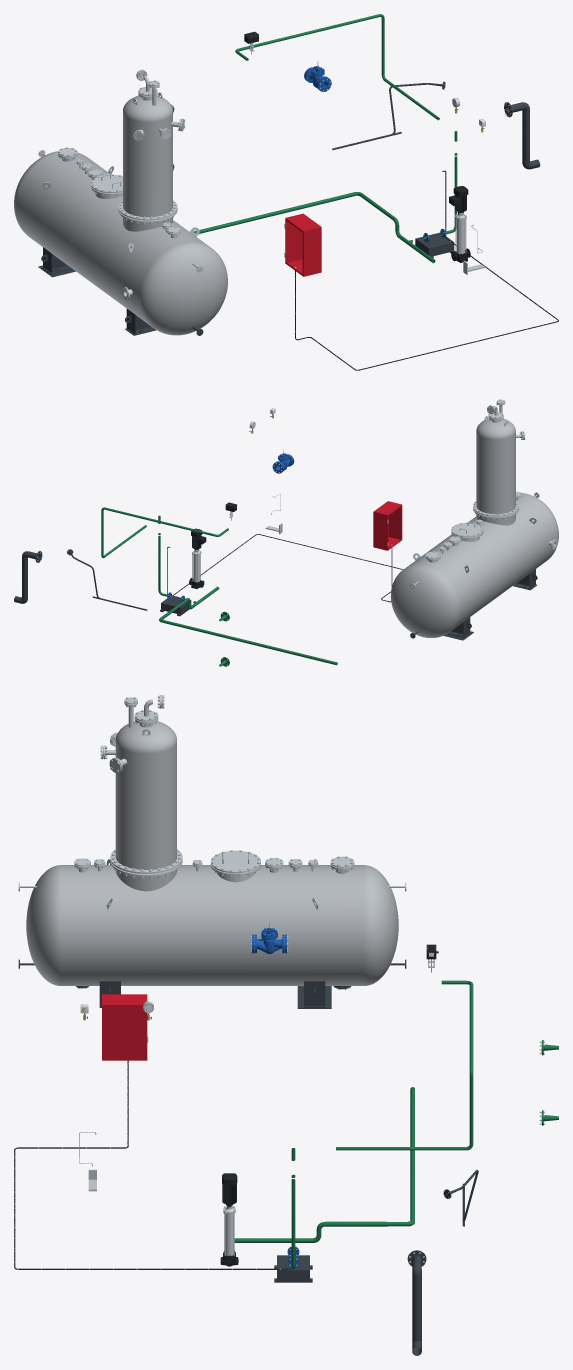
Rendered from s4000-1-2jzba_Rv.glb.
The picture shows the model from 3 angles, top to bottom: view 1: azimuth 30°, elevation 25°; view 2: azimuth 150°, elevation 25°; view 3: azimuth 270°, elevation 25°; orthographic projection. The views are drawn at different scales.
Visible parts, largest first — view 1: deaerator CAD solid 56, deaerator CAD solid 257, control_cabinet / control_cabinet_0.npz, suction_common / green, to_direct / green, wiring_pump_2 / black, bdv_water_drain / dark, pump_branch_2 / dark, deaerator CAD solid 408; view 2: deaerator CAD solid 56, deaerator CAD solid 257, control_cabinet / control_cabinet_0.npz, suction_common / green, to_direct / green, bdv_water_drain / dark, wiring_pump_2 / black, deaerator CAD solid 408, pump_branch_2 / dark; view 3: deaerator CAD solid 56, deaerator CAD solid 257, control_cabinet / control_cabinet_0.npz, suction_common / green, to_direct / green, wiring_pump_2 / black, bdv_water_drain / dark, deaerator CAD solid 408, pump_branch_2 / dark.
Boxes of the visible parts, <box> form: deaerator CAD solid 56: <box>14,151,227,335</box>; deaerator CAD solid 257: <box>123,95,172,217</box>; control_cabinet / control_cabinet_0.npz: <box>284,213,321,276</box>; suction_common / green: <box>193,192,435,263</box>; to_direct / green: <box>235,14,439,120</box>; wiring_pump_2 / black: <box>295,170,558,370</box>; bdv_water_drain / dark: <box>504,102,540,169</box>; pump_branch_2 / dark: <box>415,232,454,258</box>; deaerator CAD solid 408: <box>91,174,122,193</box>; deaerator CAD solid 56: <box>390,493,558,637</box>; deaerator CAD solid 257: <box>476,418,515,514</box>; control_cabinet / control_cabinet_0.npz: <box>373,501,402,550</box>; suction_common / green: <box>159,586,337,665</box>; to_direct / green: <box>101,507,228,558</box>; bdv_water_drain / dark: <box>14,551,42,603</box>; wiring_pump_2 / black: <box>167,534,403,602</box>; deaerator CAD solid 408: <box>451,523,483,537</box>; pump_branch_2 / dark: <box>160,595,191,616</box>; deaerator CAD solid 56: <box>26,865,398,985</box>; deaerator CAD solid 257: <box>115,721,176,869</box>; control_cabinet / control_cabinet_0.npz: <box>102,994,148,1060</box>; suction_common / green: <box>234,1087,414,1242</box>; to_direct / green: <box>336,980,473,1150</box>; wiring_pump_2 / black: <box>14,1060,291,1269</box>; bdv_water_drain / dark: <box>407,1250,426,1355</box>; deaerator CAD solid 408: <box>210,850,260,873</box>; pump_branch_2 / dark: <box>274,1255,312,1282</box>.
Bounding box in the file's own units: 9.11 × 4.82 × 6.4.
